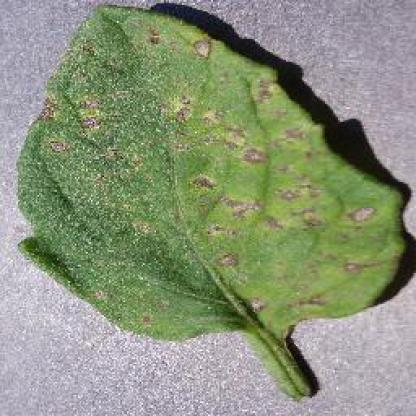bad leaf: (162, 15, 374, 289), (33, 84, 121, 166)
